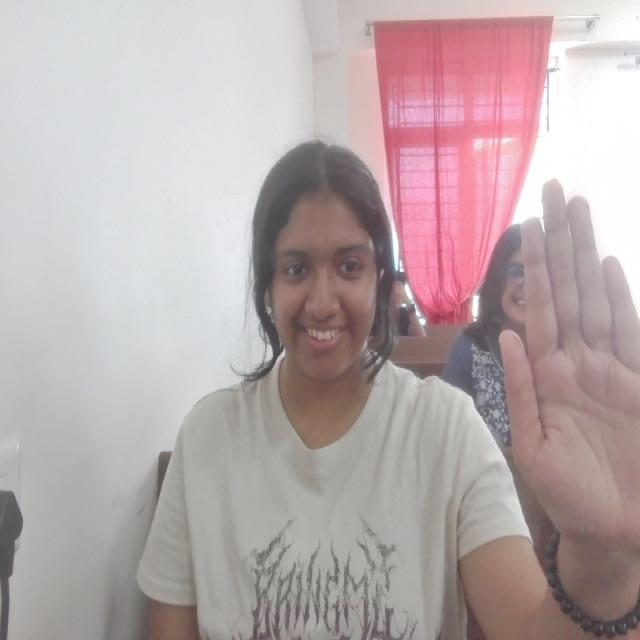hello: (500, 173, 640, 550)
